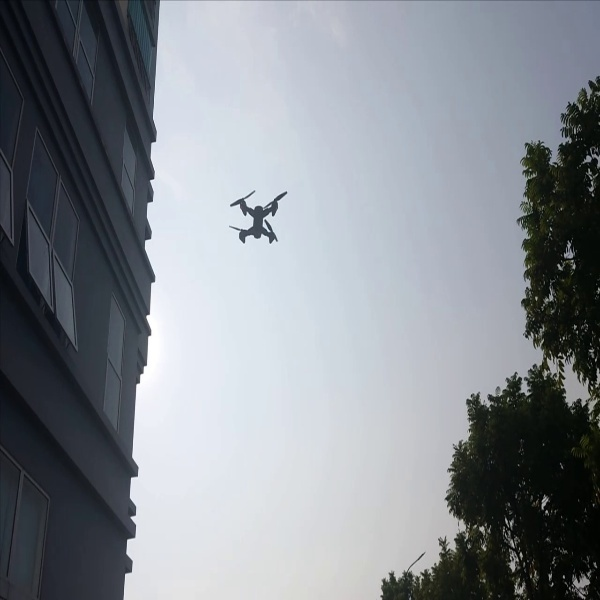drone: (223, 185, 290, 253)
